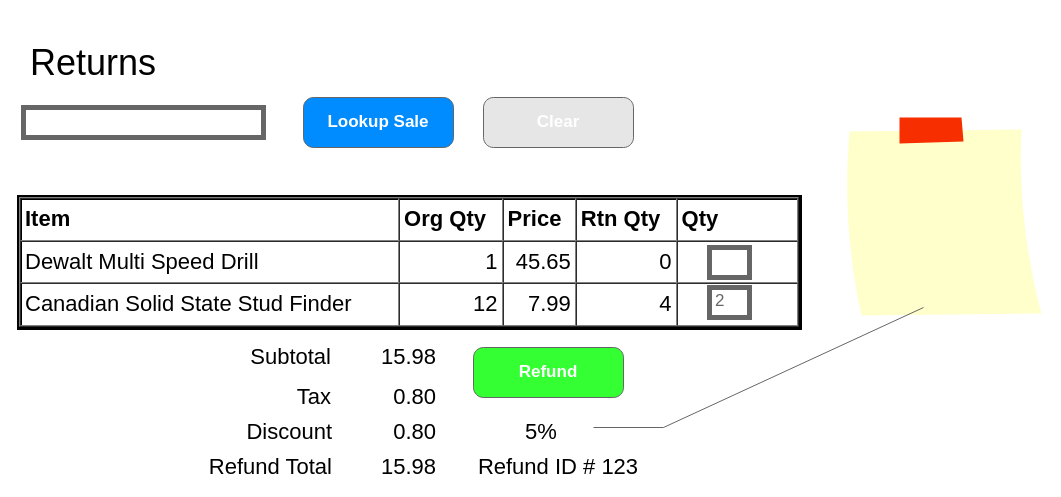
The diagram is 1061 pixels wide and 497 high, and some of its shapes have lost their labels. Each missing label, with the centre of its shape:
"Discount may be a value or the label None (no discount)" goes at pixel 943 217.
"Original Sale Invoice Number" goes at pixel 143 122.
